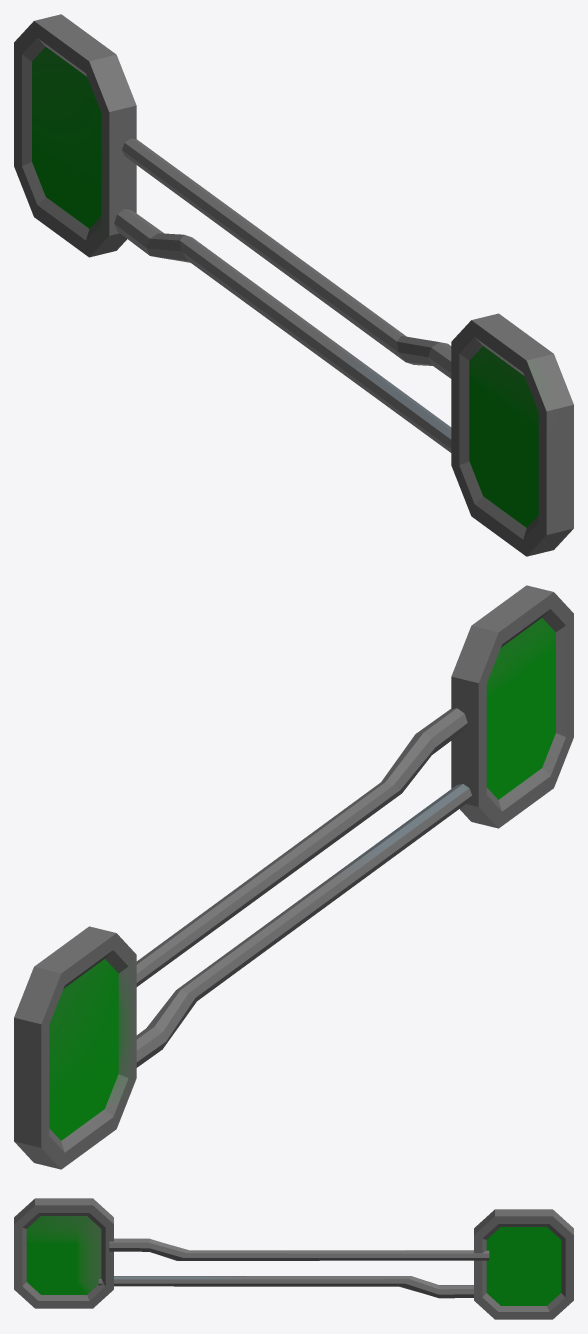
3 renders of one model, top to bottom at view 1: azimuth 30°, elevation 25°; view 2: azimuth 150°, elevation 25°; view 3: azimuth 270°, elevation 25°, orthographic. The views are drawn at different scales.
Visible parts, largest first — view 1: SM_B_Part17; view 2: SM_B_Part17; view 3: SM_B_Part17.
Part boxes in pixels (left/top/right/bottom): SM_B_Part17: left=14, top=14, right=573, bottom=556; SM_B_Part17: left=14, top=585, right=573, bottom=1169; SM_B_Part17: left=14, top=1198, right=573, bottom=1319.
Bounding box in the file's own units: 7.44 × 206 × 46.33.
Materials: 1 (1 with a texture image).
